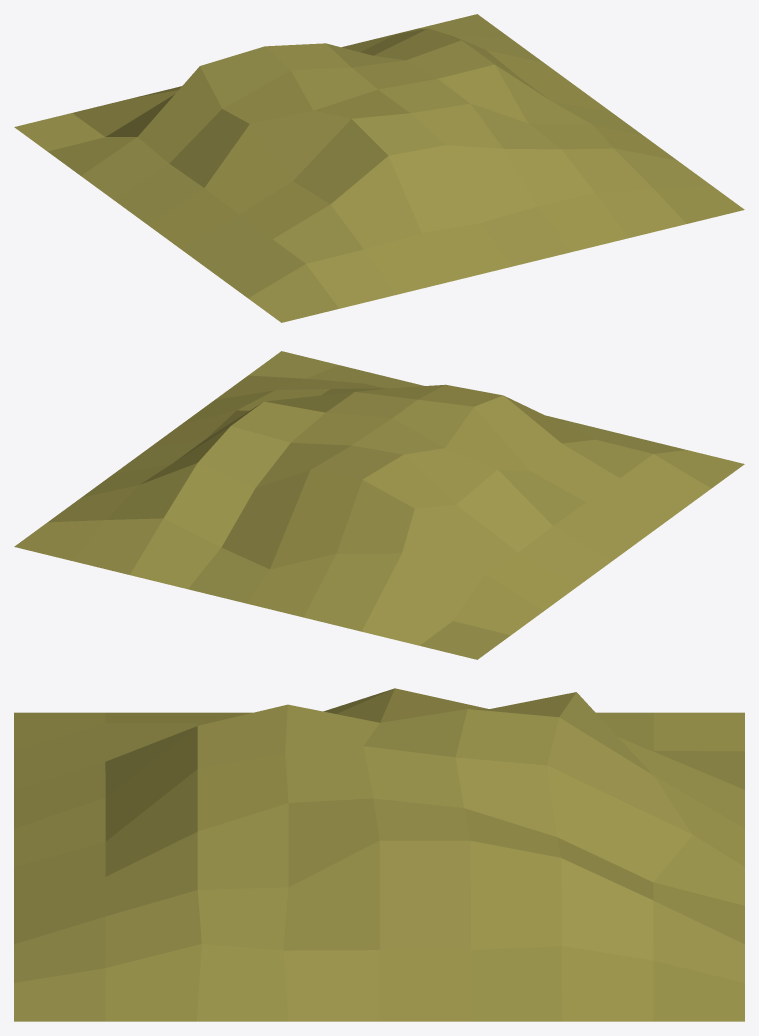
Rendered from Terrain_16_Yellow.fbx.
The picture shows the model from 3 angles, top to bottom: view 1: azimuth 30°, elevation 25°; view 2: azimuth 150°, elevation 25°; view 3: azimuth 270°, elevation 25°; orthographic projection. The views are drawn at different scales.
Parts seen in each view (by area): view 1: Terrain_16_Yellow; view 2: Terrain_16_Yellow; view 3: Terrain_16_Yellow.
Boxes of the visible parts, x1,y1,x2,y2 form: Terrain_16_Yellow: (14, 14, 744, 322); Terrain_16_Yellow: (14, 351, 744, 659); Terrain_16_Yellow: (14, 688, 744, 1021).
Bounding box in the file's own units: 7000 × 1288 × 7000.
